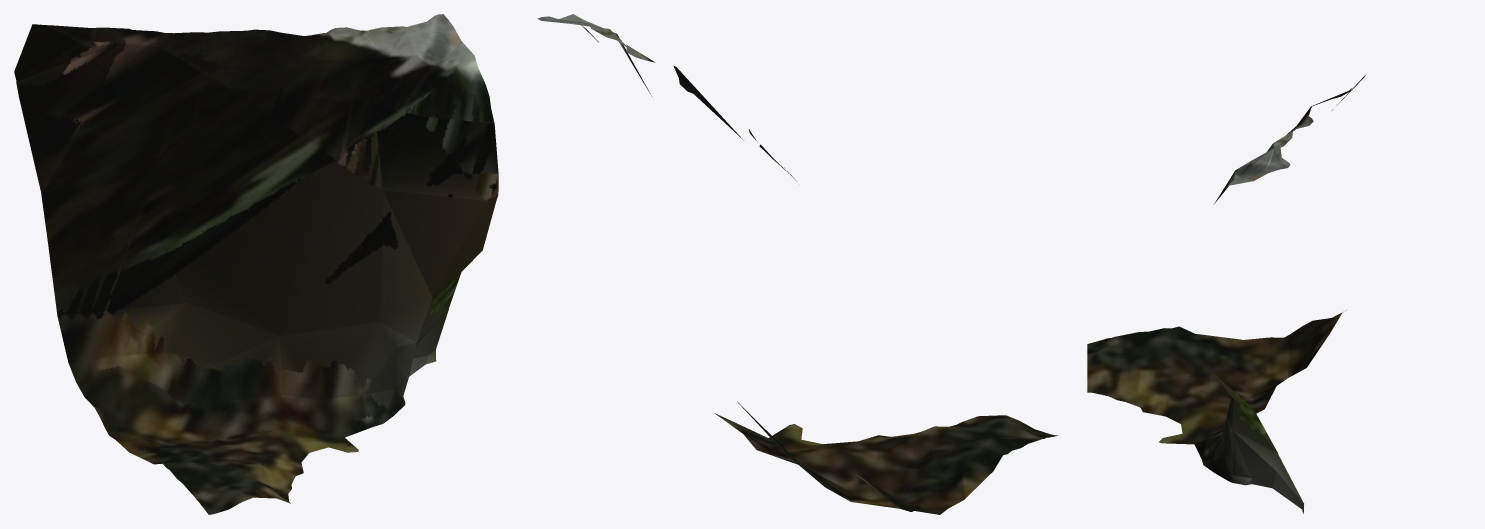
The picture shows the model from 3 angles, left to right: view 1: azimuth 30°, elevation 25°; view 2: azimuth 150°, elevation 25°; view 3: azimuth 270°, elevation 25°; orthographic projection. The views are drawn at different scales.
Size of the model in its own units: 0.8373 by 0.8374 by 0.8373.
Materials: 3 (3 with a texture image).
